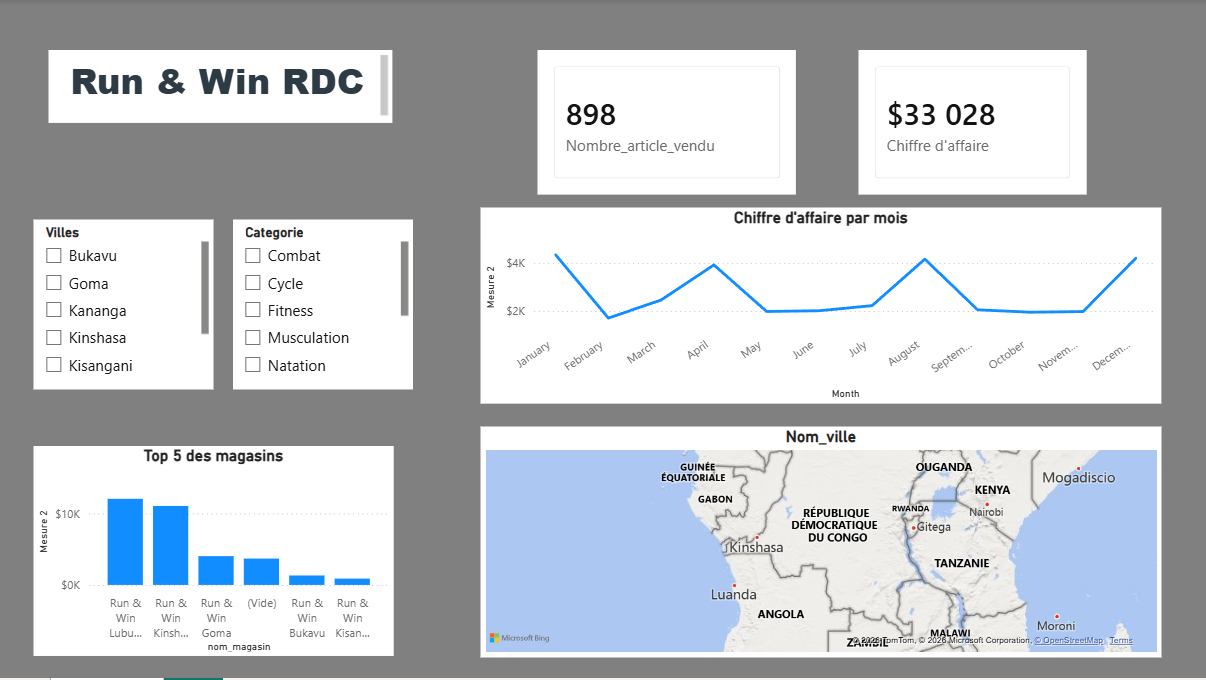

Layout of this report page (visuals, bound fields, positions):
{"tool":"powerbi","page":{"name":"Page 1","canvas":[1280,720],"ordinal":0},"visuals":[{"type":"cardVisual","fields":{"Data":["public categories.Mesure"]},"box":[570.7,54.8,274,153.1],"z":0},{"type":"cardVisual","fields":{"Data":["public categories.Mesure 2"]},"box":[910.9,54.8,241.9,153.1],"z":1000},{"type":"lineChart","title":"Chiffre d''affaire par mois","fields":{"Y":["public categories.Mesure 2"],"Category":["public ventes.date_vente.Variation.Date Hierarchy.Month"]},"box":[510.2,221.1,721.9,207.9],"z":2000},{"type":"filledMap","title":"Nom_ville","fields":{"Category":["public villes.nom_ville"]},"box":[510.2,453.5,721.9,243.8],"z":3000},{"type":"clusteredColumnChart","title":"Top 5 des magasins","fields":{"Category":["public magasins.nom_magasin"],"Y":["public categories.Mesure 2"]},"box":[35.9,474.3,381.7,223],"z":4000},{"type":"slicer","title":"Vi","fields":{"Values":["public villes.nom_ville"]},"box":[35.9,68,381.7,153.1],"z":5000},{"type":"slicer","fields":{"Values":["public categories.nom_categorie"]},"box":[35.9,249.5,381.7,179.5],"z":6000}]}

Visuals, with their boxes in screenshot pixels (x1, y1, x2, y2), scaled from the page's 1280x720 canvas onto the 1206x680 screenshot:
cardVisual - public categories.Mesure: {"x1": 538, "y1": 52, "x2": 796, "y2": 196}
cardVisual - public categories.Mesure 2: {"x1": 858, "y1": 52, "x2": 1086, "y2": 196}
"Chiffre d''affaire par mois" lineChart: {"x1": 481, "y1": 209, "x2": 1161, "y2": 405}
"Nom_ville" filledMap: {"x1": 481, "y1": 428, "x2": 1161, "y2": 659}
"Top 5 des magasins" clusteredColumnChart: {"x1": 34, "y1": 448, "x2": 393, "y2": 659}
"Vi" slicer: {"x1": 34, "y1": 64, "x2": 393, "y2": 209}
slicer - public categories.nom_categorie: {"x1": 34, "y1": 236, "x2": 393, "y2": 405}
